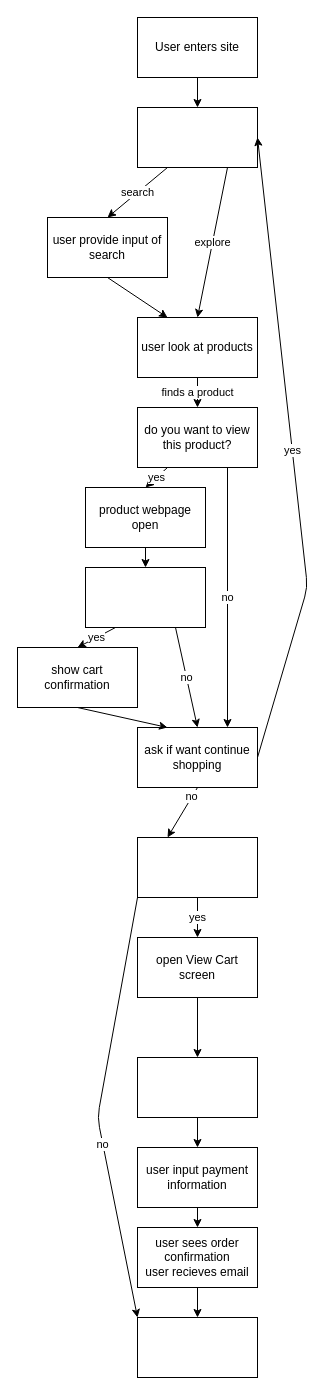
Some shapes in this 333 by 1395 pixel diagram are drawn without their labels. Here are the shapes that lost their labels. From the top down, the centre of each, then its label:
At point (197, 137): "want to search products or explore?".
At point (145, 597): "want to add to cart?".
At point (197, 867): "want to checkout?".
At point (197, 1087): "open View Payment screen".
At point (197, 1347): "user leaves site".
